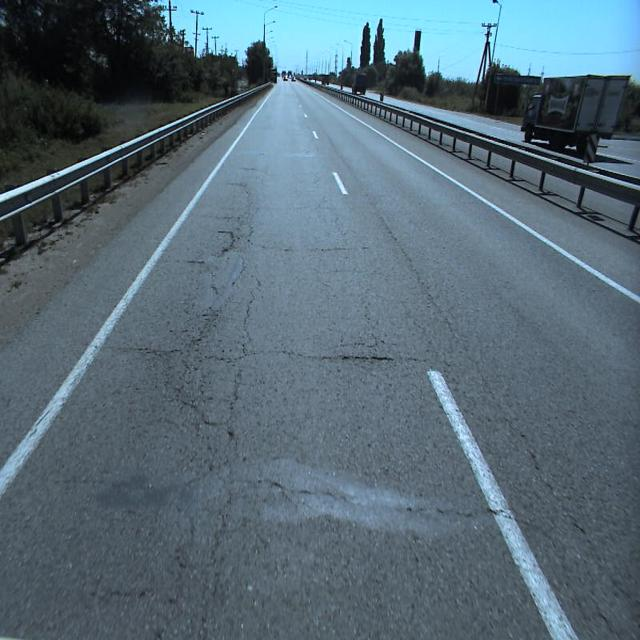road: (0, 77, 640, 639)
